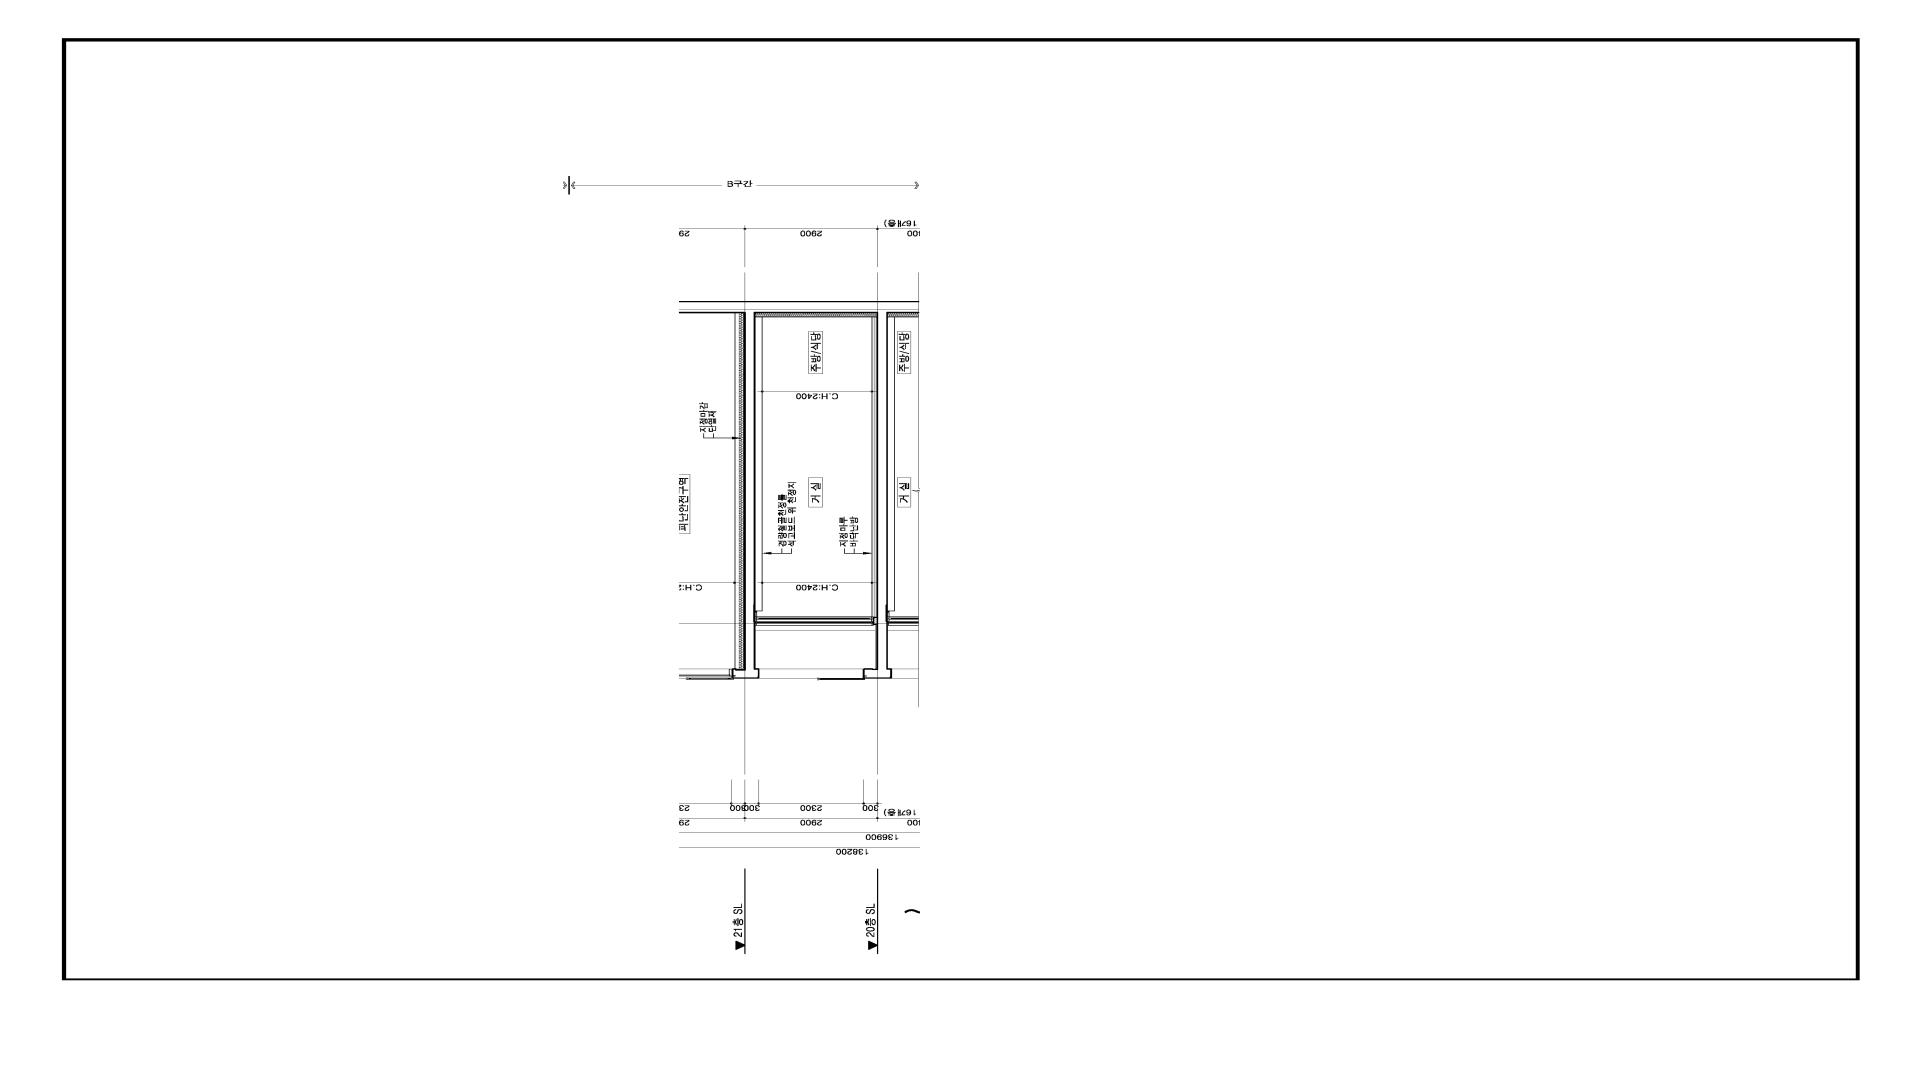wall: (744, 301, 877, 679), (862, 301, 887, 679), (756, 316, 762, 612), (873, 617, 877, 625)
window: (756, 616, 877, 630), (760, 669, 862, 679)
